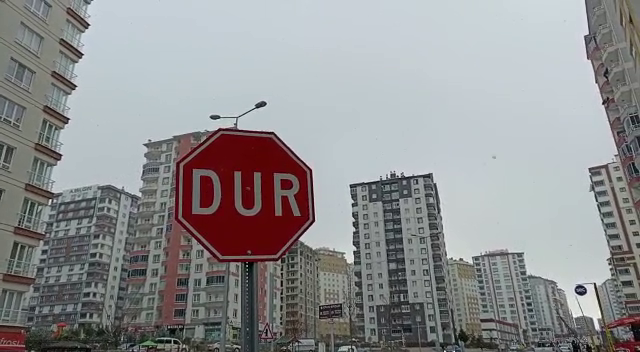stop: (172, 124, 320, 266)
